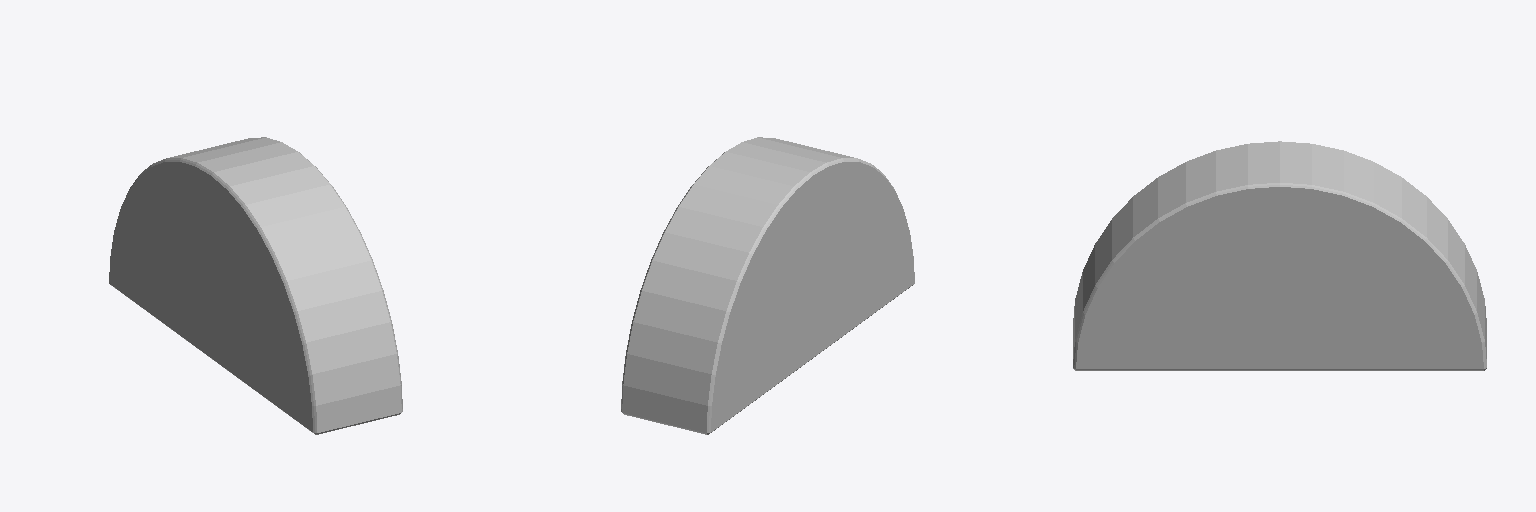
The model's file is Block2HALFCYLINDER.obj.
The picture shows the model from 3 angles: view 1: azimuth 30°, elevation 25°; view 2: azimuth 150°, elevation 25°; view 3: azimuth 270°, elevation 25°; orthographic projection.
Visible parts, largest first — view 1: pCylinder1; view 2: pCylinder1; view 3: pCylinder1.
Part boxes in pixels (bbox=[...]): pCylinder1: bbox=[109, 137, 402, 434]; pCylinder1: bbox=[621, 137, 914, 434]; pCylinder1: bbox=[1073, 141, 1486, 370].
Size of the model in its own units: 100 by 200 by 400.